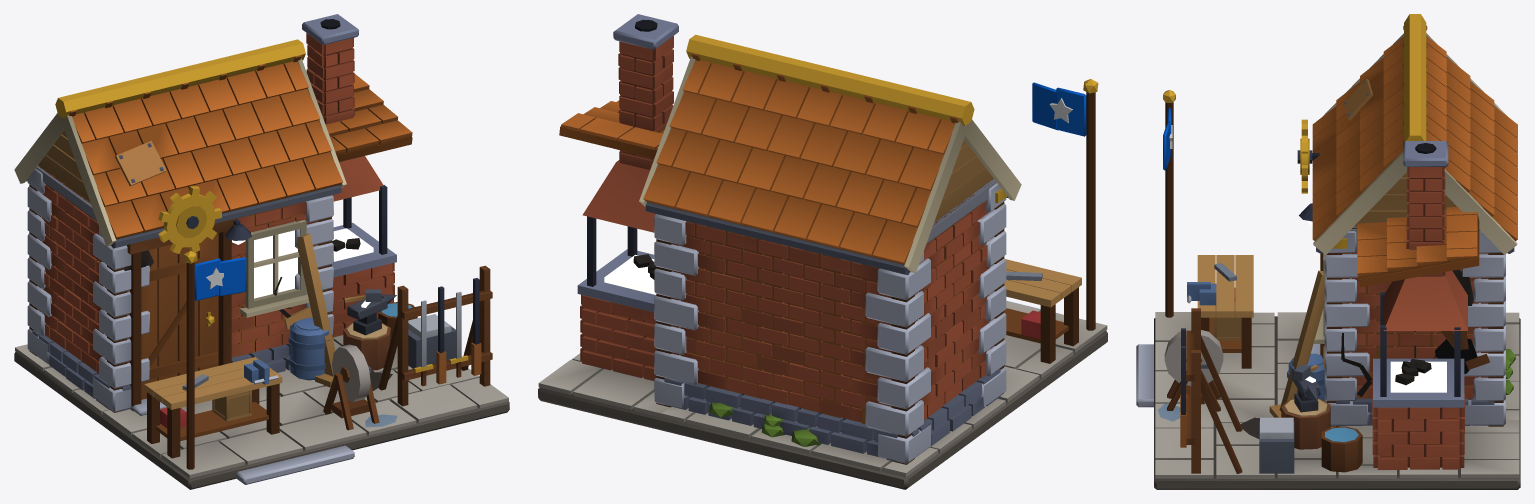
File: b_werkstatt.glb
3 renders of one model, left to right at view 1: azimuth 30°, elevation 25°; view 2: azimuth 150°, elevation 25°; view 3: azimuth 270°, elevation 25°, orthographic. The views are drawn at different scales.
Visible parts, largest first — view 1: body, lv4_haus, lv4_ausbau, spin_zahnrad, lvmax3_haus, dmg2_bruch, win_glow, sway_flag, spin_stein, esse_glow; view 2: body, lv4_haus, lv4_ausbau, lvmax3_haus, sway_flag, esse_glow; view 3: body, lv4_haus, lv4_ausbau, dmg2_bruch, lvmax3_haus, spin_stein, esse_glow, spin_zahnrad, dmg1_spuren, sway_flag.
Boxes of the visible parts, x1,y1,x2,y2 form: body: [14, 14, 509, 489]; lv4_haus: [27, 165, 333, 412]; lv4_ausbau: [55, 39, 455, 469]; spin_zahnrad: [158, 186, 221, 253]; lvmax3_haus: [29, 164, 331, 412]; dmg2_bruch: [297, 233, 335, 387]; win_glow: [254, 230, 297, 298]; sway_flag: [194, 257, 246, 300]; spin_stein: [332, 344, 371, 401]; esse_glow: [332, 228, 373, 307]; body: [538, 14, 1107, 489]; lv4_haus: [654, 179, 1006, 463]; lv4_ausbau: [559, 34, 1098, 330]; lvmax3_haus: [656, 179, 1004, 464]; sway_flag: [1032, 82, 1086, 136]; esse_glow: [604, 254, 656, 294]; body: [1136, 25, 1520, 489]; lv4_haus: [1324, 226, 1505, 425]; lv4_ausbau: [1163, 14, 1479, 473]; dmg2_bruch: [1269, 270, 1489, 417]; lvmax3_haus: [1322, 227, 1503, 426]; spin_stein: [1164, 329, 1223, 385]; esse_glow: [1305, 361, 1446, 392]; spin_zahnrad: [1297, 119, 1312, 193]; dmg1_spuren: [1341, 269, 1473, 396]; sway_flag: [1163, 107, 1172, 170].
Bounding box in the file's own units: 5.55 × 5.01 × 5.47.
